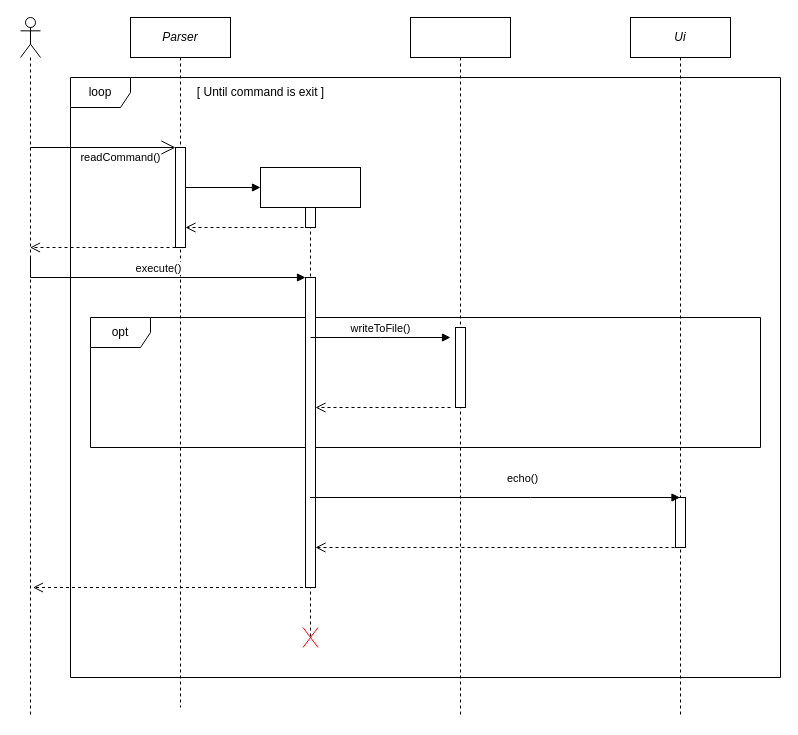
This 798x735 diagram has some shape labels left out. Each missing label, with the box of its shape:
Command: (260, 166, 360, 638)
Storage: (410, 16, 510, 718)
